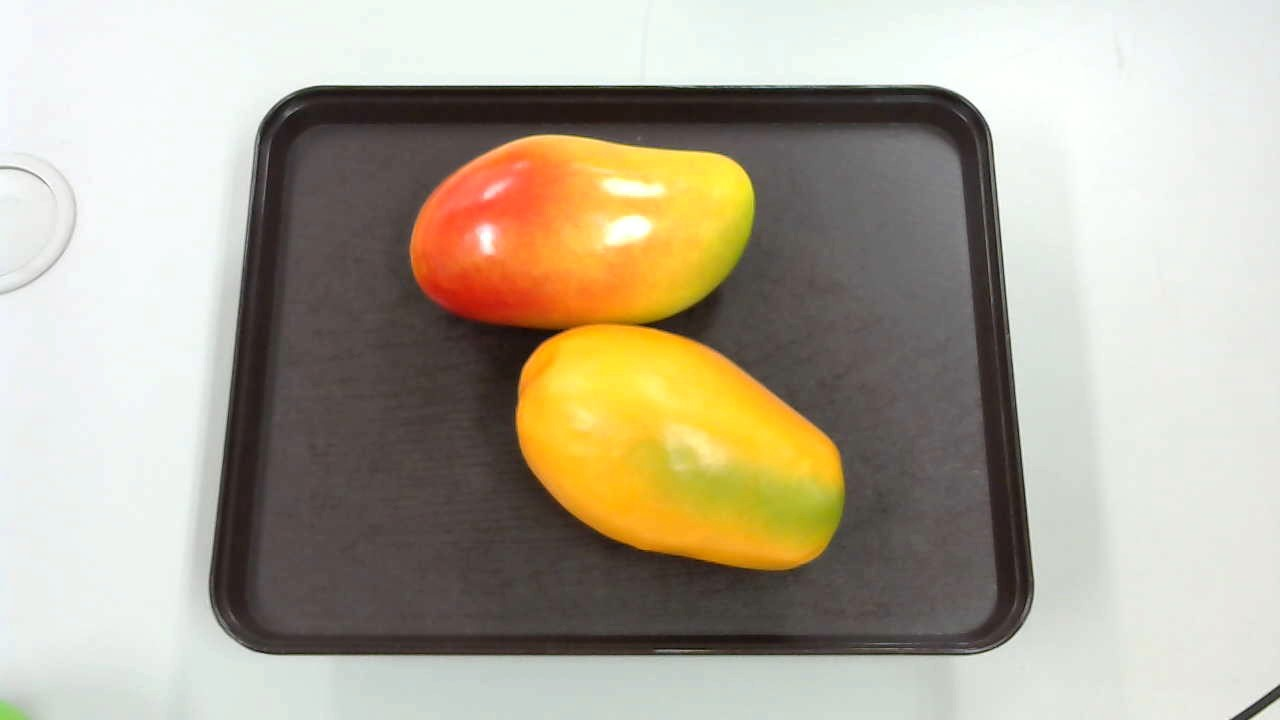papya: (509, 318, 845, 569)
red mango: (403, 128, 754, 335)
